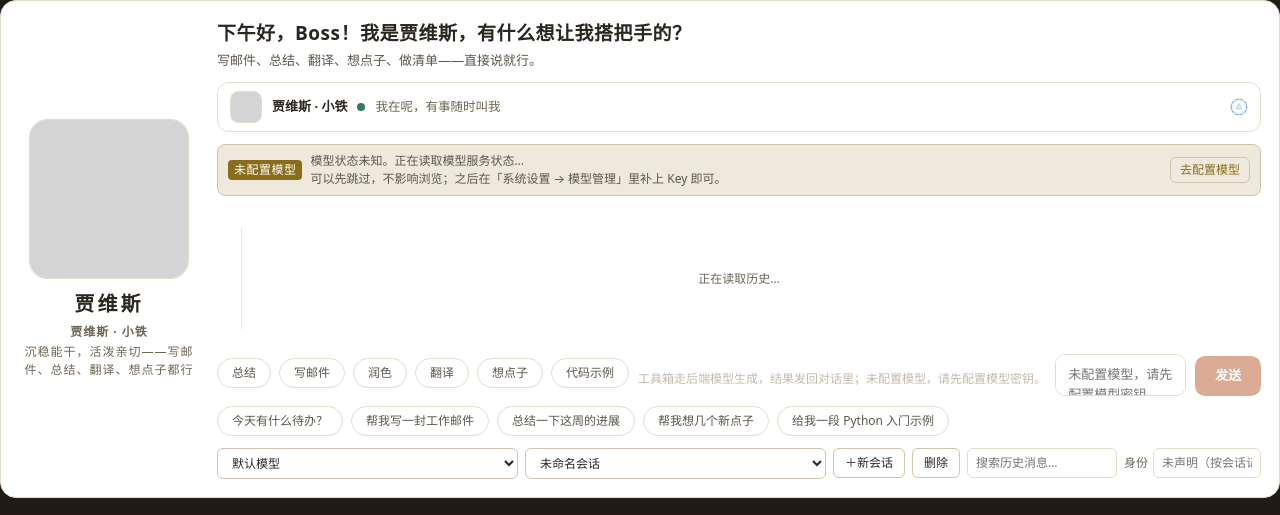
Scenario: ChatPanel 结束帧 › done{status:error, reason:key_revoked} 渲染换 Key 卡片
Step 1. Type "你好" into the text box with placeholder "未配置模型，请先配置模型密钥" → {"x": 1121, "y": 375}, box [1055,354,1186,396]
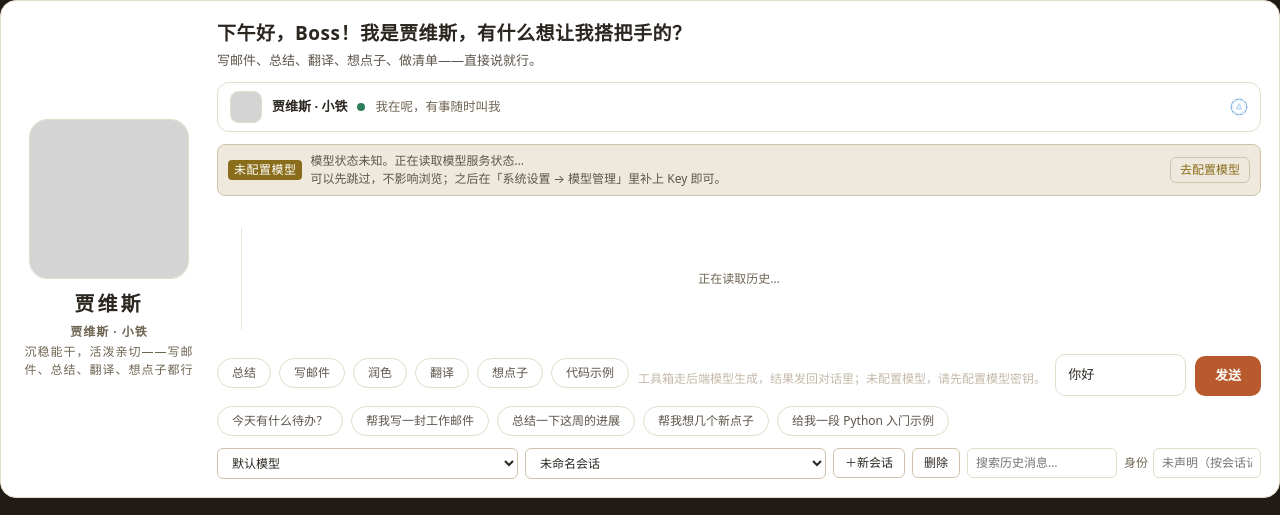
Step 2. Click the button "发送" → {"x": 1228, "y": 376}, box [1195,356,1261,396]
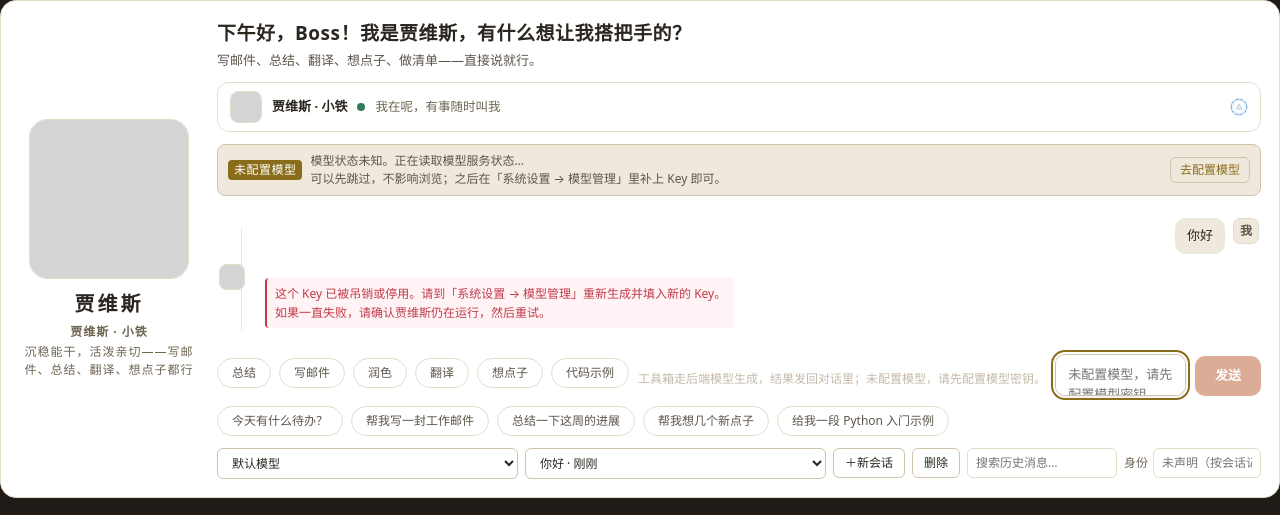
Check: the text "这个 Key 已被吊销或停用。请到「系统设置 → 模型管理」重新生成并填入新的 Key。" is shown, box [275,284,726,303]
